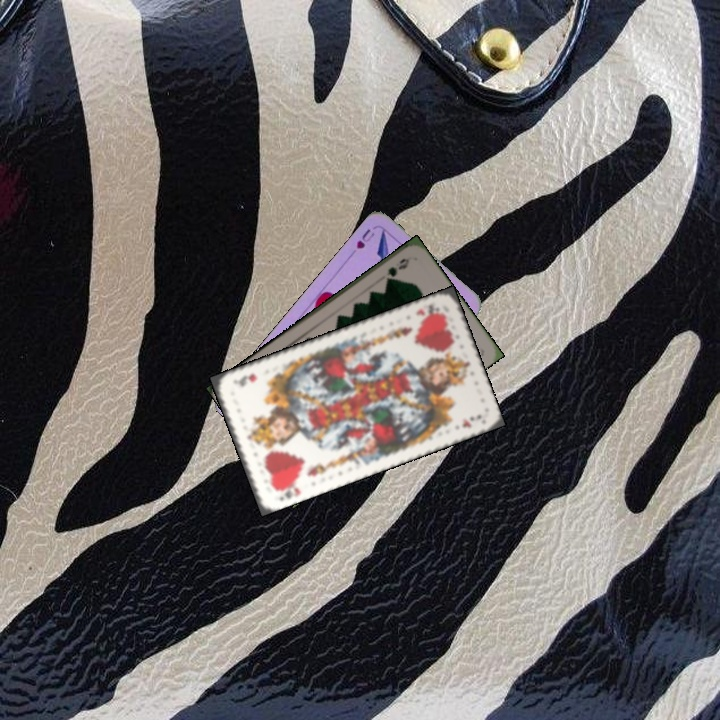G9: (382, 254, 412, 285)
HK: (271, 483, 303, 503), (412, 298, 442, 319)
HU: (352, 225, 377, 251)
